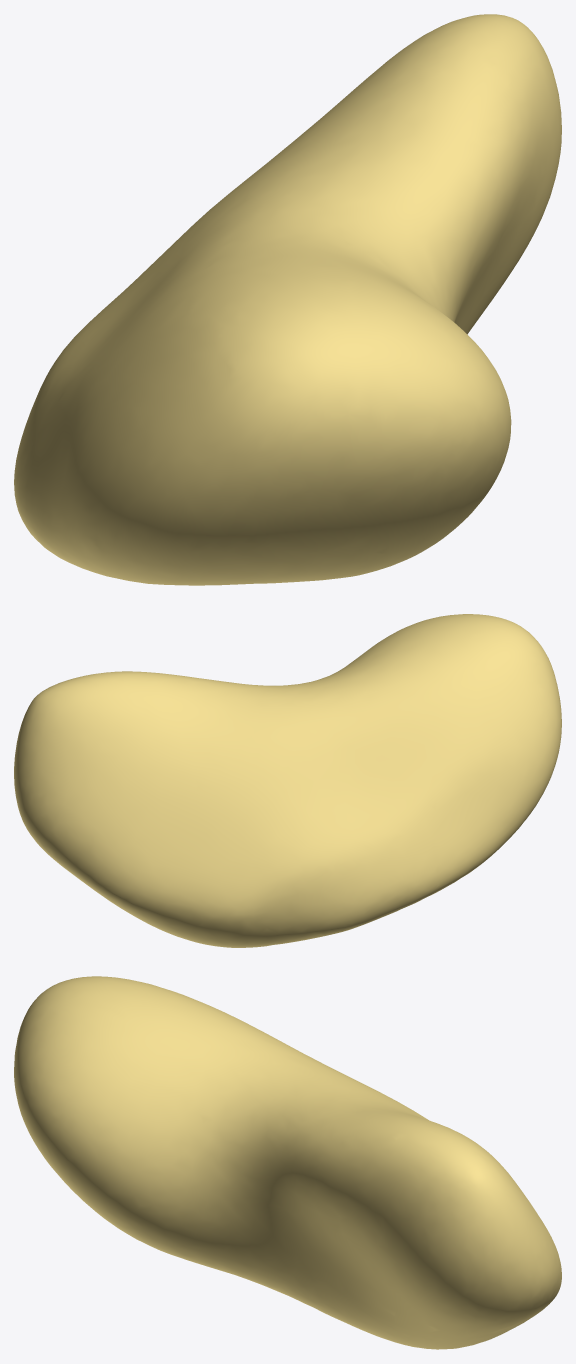
The picture shows the model from 3 angles, top to bottom: view 1: azimuth 30°, elevation 25°; view 2: azimuth 150°, elevation 25°; view 3: azimuth 270°, elevation 25°; orthographic projection. The views are drawn at different scales.
Visible parts, largest first — view 1: ZA_07a9b67c9ebc0175; view 2: ZA_07a9b67c9ebc0175; view 3: ZA_07a9b67c9ebc0175.
Part boxes in pixels (<box>): ZA_07a9b67c9ebc0175: <box>14,14,561,585</box>; ZA_07a9b67c9ebc0175: <box>14,614,561,947</box>; ZA_07a9b67c9ebc0175: <box>14,976,561,1349</box>.
Size of the model in its own units: 0.0345 by 0.02 by 0.0355.
